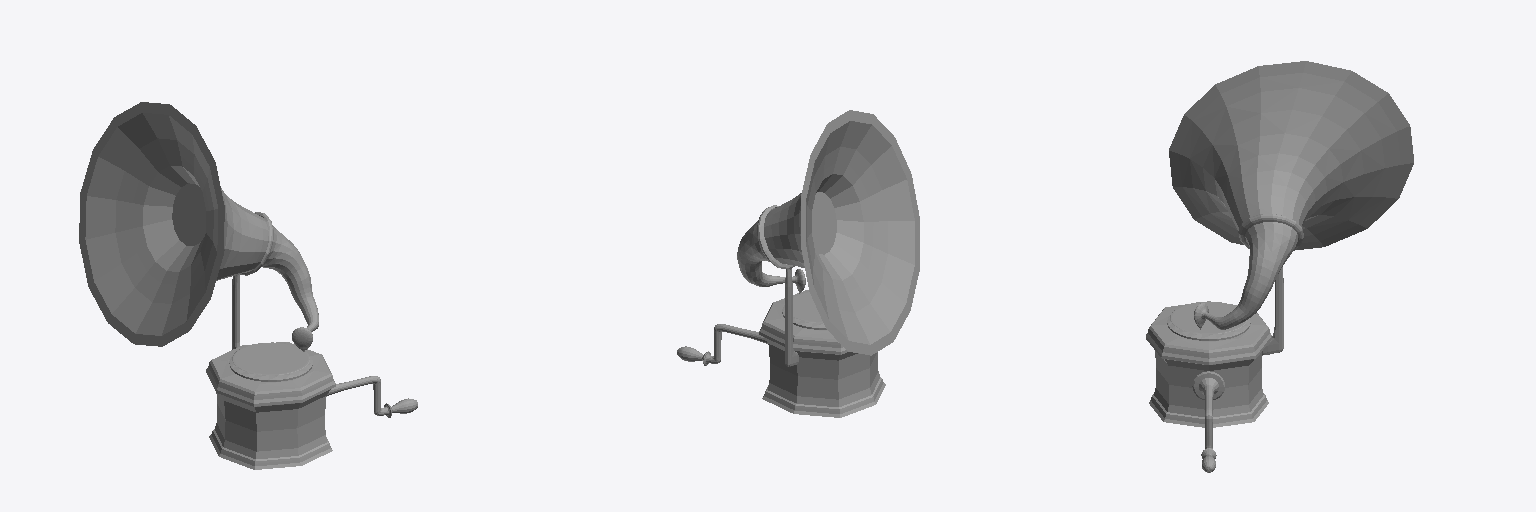
The model's file is gramophone.obj.
3 renders of one model, left to right at view 1: azimuth 30°, elevation 25°; view 2: azimuth 150°, elevation 25°; view 3: azimuth 270°, elevation 25°, orthographic.
Parts seen in each view (by area): view 1: Cube_Cube.001; view 2: Cube_Cube.001; view 3: Cube_Cube.001.
Part boxes in pixels (x1,y1,x2,y2): Cube_Cube.001: (79,102,417,469); Cube_Cube.001: (677,110,919,417); Cube_Cube.001: (1146,61,1413,472).
Size of the model in its own units: 6.88 by 8.34 by 6.36.